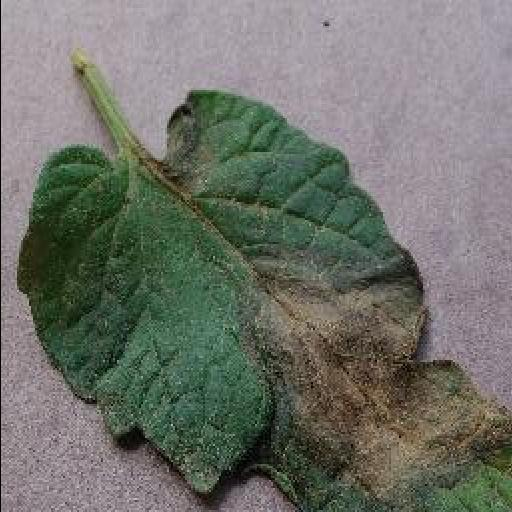disease_tomato: (16, 92, 512, 512)
